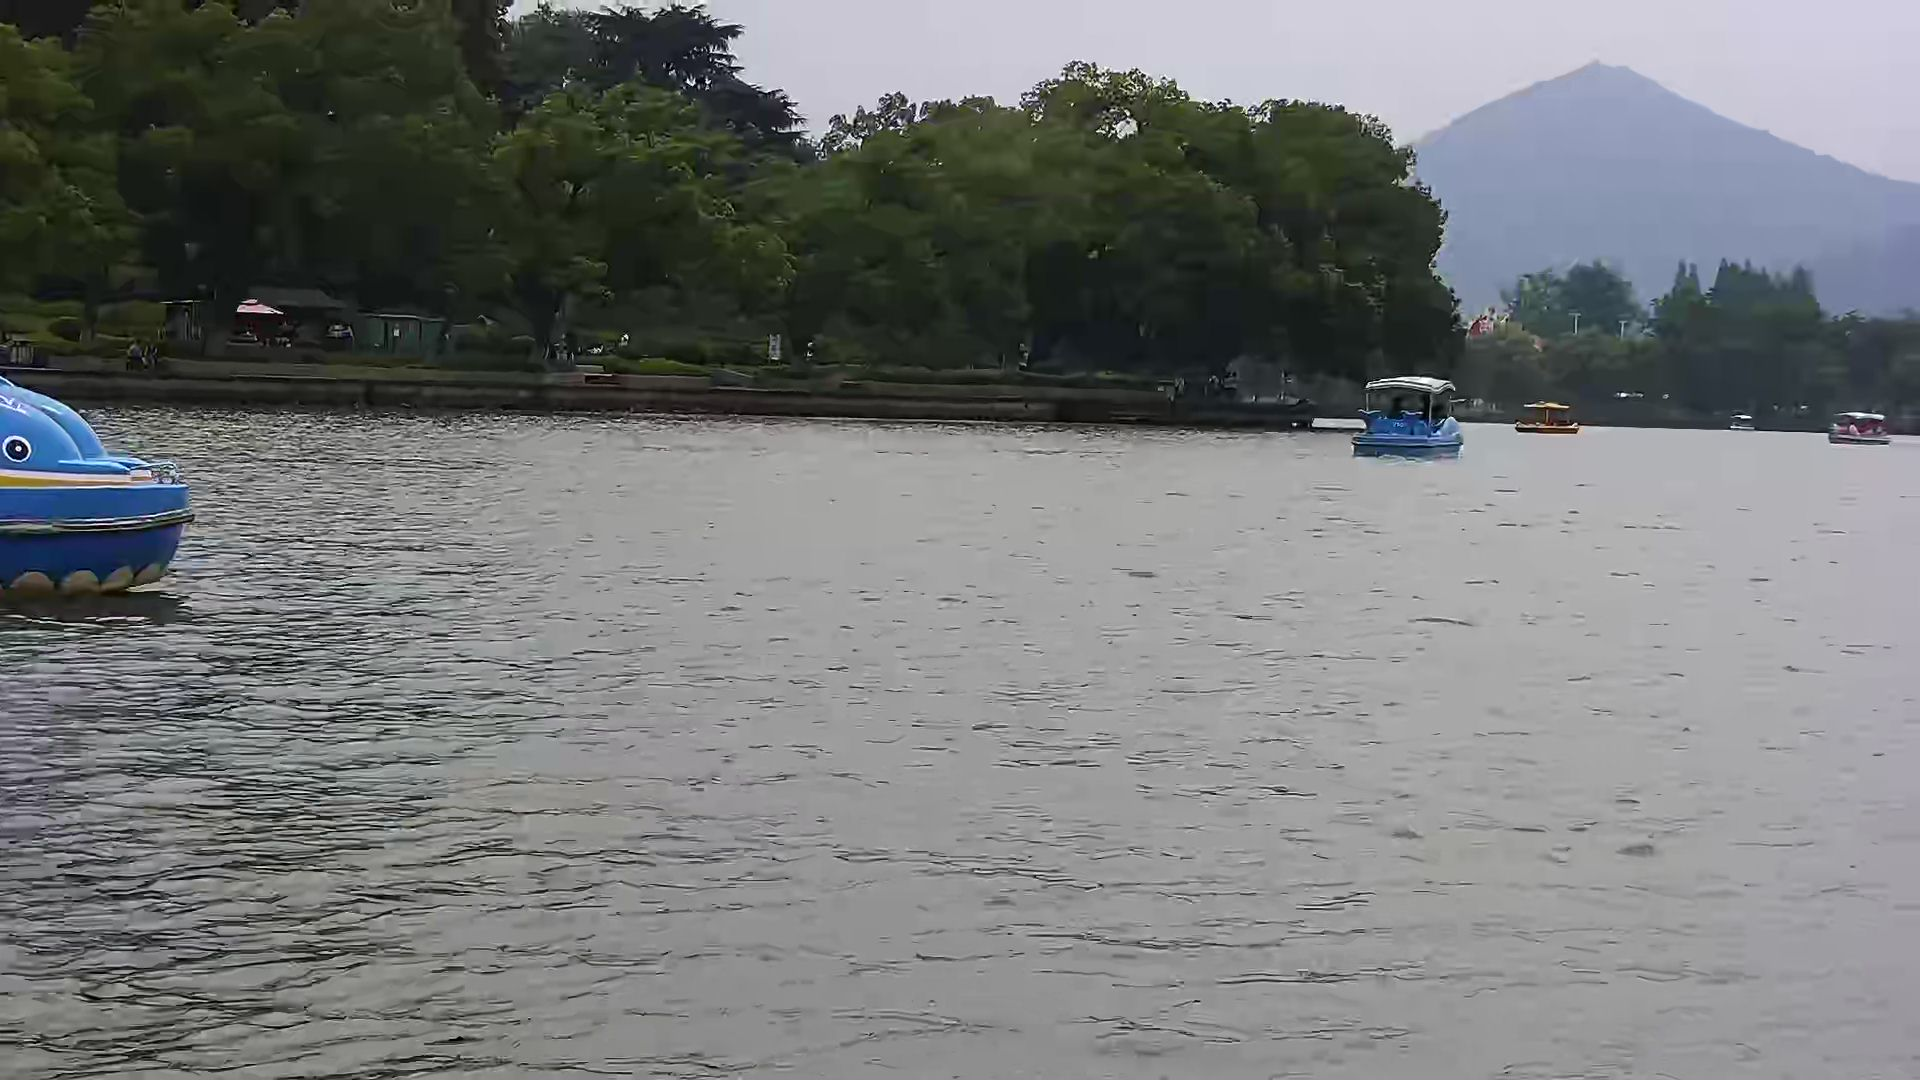boat: (1345, 372, 1466, 459), (1513, 398, 1582, 436), (1822, 407, 1894, 444)
